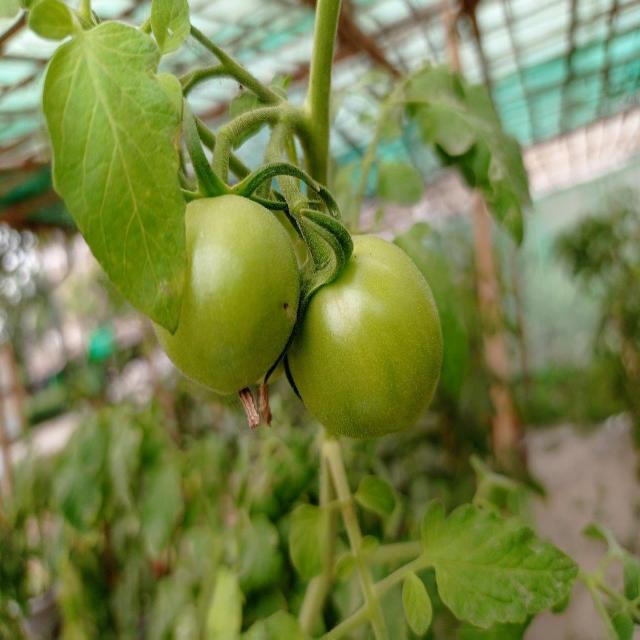Unripe: (292, 234, 441, 439), (149, 195, 301, 392)
